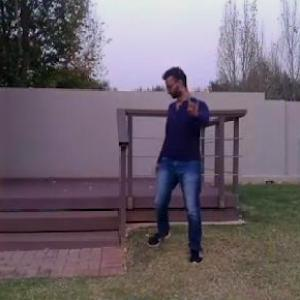takeoff-hand: (184, 88, 206, 120)
